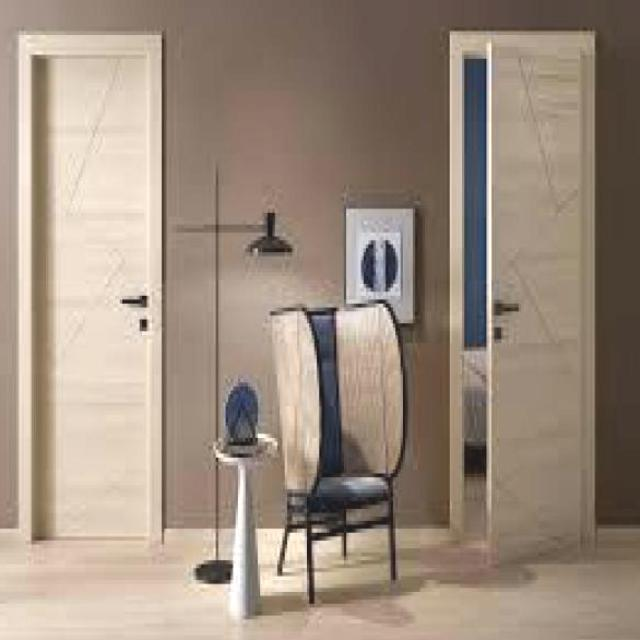door: (20, 31, 163, 546), (483, 37, 592, 560)
